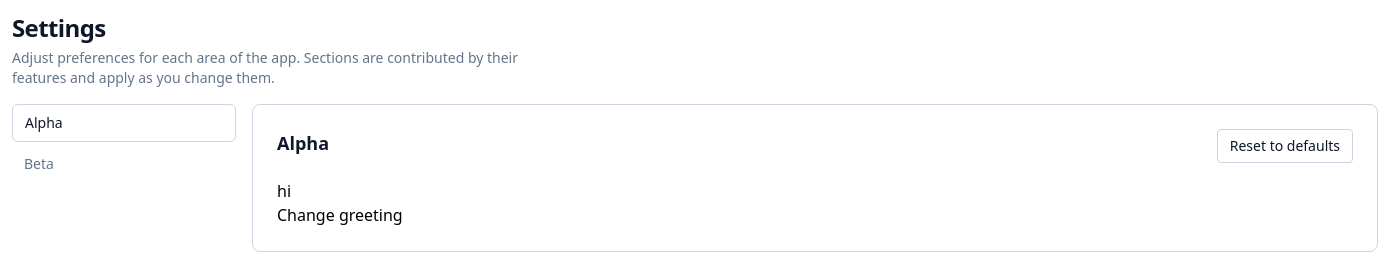
SettingsScreen › switches the rendered panel when another section entry is activated
expect the text "hi" is shown: met, box [277, 180, 291, 202]
Click the button "Beta": (124, 164) [12, 146, 236, 182]
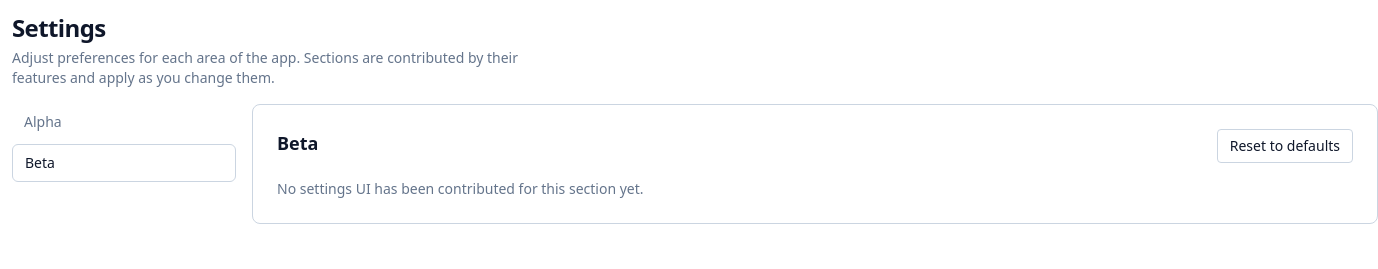
expect the text with test id "alpha-greeting" is gone: met
expect the text "No settings UI has been contributed for this section yet." is shown: met, box [277, 179, 644, 198]
